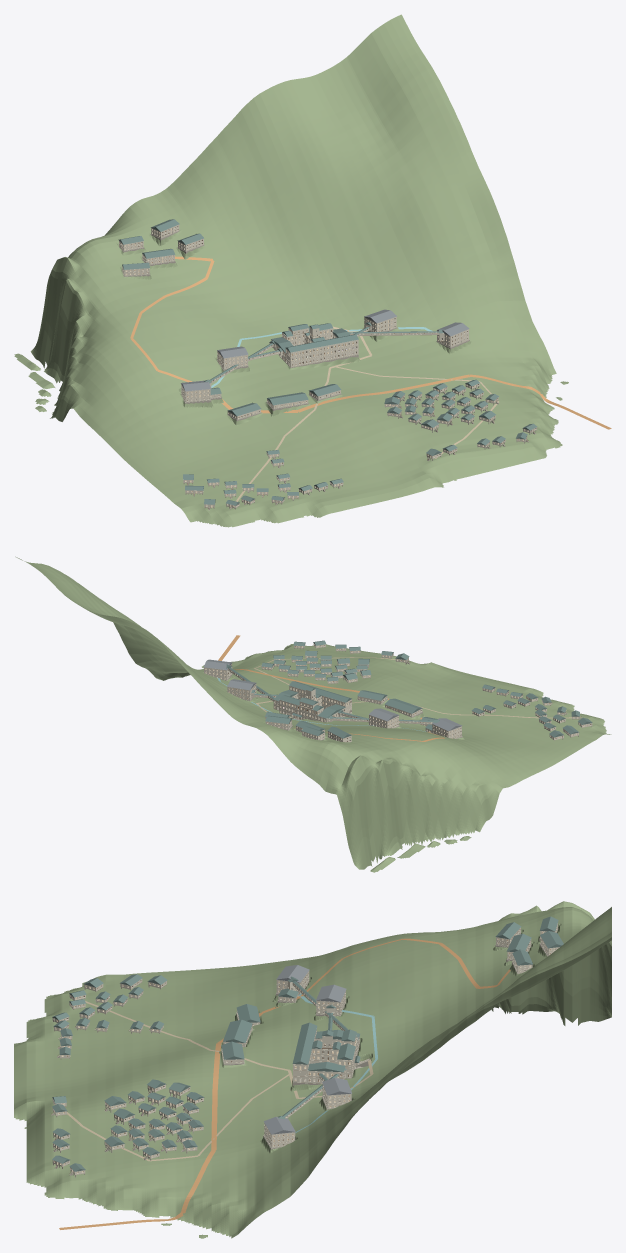
The model's file is astra_campus.glb.
The picture shows the model from 3 angles, top to bottom: view 1: azimuth 30°, elevation 25°; view 2: azimuth 150°, elevation 25°; view 3: azimuth 270°, elevation 25°; orthographic projection. The views are drawn at different scales.
Parts seen in each view (by area): view 1: terrain_local_terrain, village_roofs_roof, routes_cargo, staff_roofs_roof, lab_roofs_labroof, main_roofs_roof, support_roofs_roof, monastery_roofs_roof, routes_road, retaining_stone; view 2: terrain_local_terrain, village_roofs_roof, staff_roofs_roof, lab_roofs_labroof, main_roofs_roof, monastery_roofs_roof, support_roofs_roof, routes_cargo, main_L3_wall, main_L2_wall; view 3: terrain_local_terrain, village_roofs_roof, routes_cargo, staff_roofs_roof, lab_roofs_labroof, main_roofs_roof, support_roofs_roof, monastery_roofs_roof, routes_road, main_L2_wall, bridges_roof_roof.
Part boxes in pixels (x1,y1,x2,y2): terrain_local_terrain: (14, 14, 568, 527); village_roofs_roof: (384, 379, 537, 455); routes_cargo: (130, 256, 611, 429); staff_roofs_roof: (183, 450, 343, 505); lab_roofs_labroof: (181, 309, 469, 391); main_roofs_roof: (271, 323, 358, 352); support_roofs_roof: (210, 384, 341, 416); monastery_roofs_roof: (118, 219, 203, 269); routes_road: (235, 326, 498, 501); retaining_stone: (121, 231, 469, 421); terrain_local_terrain: (15, 556, 611, 872); village_roofs_roof: (261, 640, 409, 681); staff_roofs_roof: (471, 684, 592, 737); lab_roofs_labroof: (204, 659, 462, 731); main_roofs_roof: (273, 681, 351, 718); monastery_roofs_roof: (265, 712, 351, 738); support_roofs_roof: (357, 690, 439, 731); routes_cargo: (218, 635, 444, 741); main_L3_wall: (279, 685, 351, 715); main_L2_wall: (273, 693, 351, 722); terrain_local_terrain: (14, 901, 611, 1238); village_roofs_roof: (52, 1079, 204, 1171); routes_cargo: (59, 938, 510, 1229); staff_roofs_roof: (52, 974, 167, 1054); lab_roofs_labroof: (264, 965, 351, 1134); main_roofs_roof: (292, 1022, 360, 1072); support_roofs_roof: (221, 988, 298, 1059); monastery_roofs_roof: (495, 916, 563, 965); routes_road: (67, 1001, 373, 1161); main_L2_wall: (293, 1036, 359, 1077); bridges_roof_roof: (282, 981, 348, 1117).
Size of what is drawn, in the model's own units: 506 by 287 by 500.
